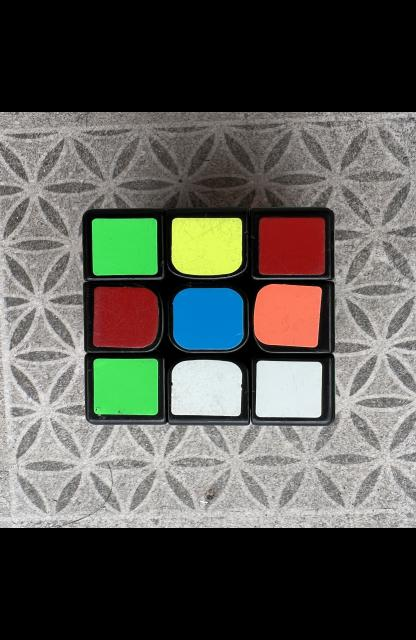Blue: (172, 288, 243, 349)
Green: (90, 218, 156, 276), (93, 359, 158, 415)
Orange: (253, 284, 320, 347)
Red: (92, 286, 158, 348), (258, 217, 324, 274)
White: (170, 360, 242, 416), (254, 360, 322, 418)
Yellow: (170, 218, 242, 276)
